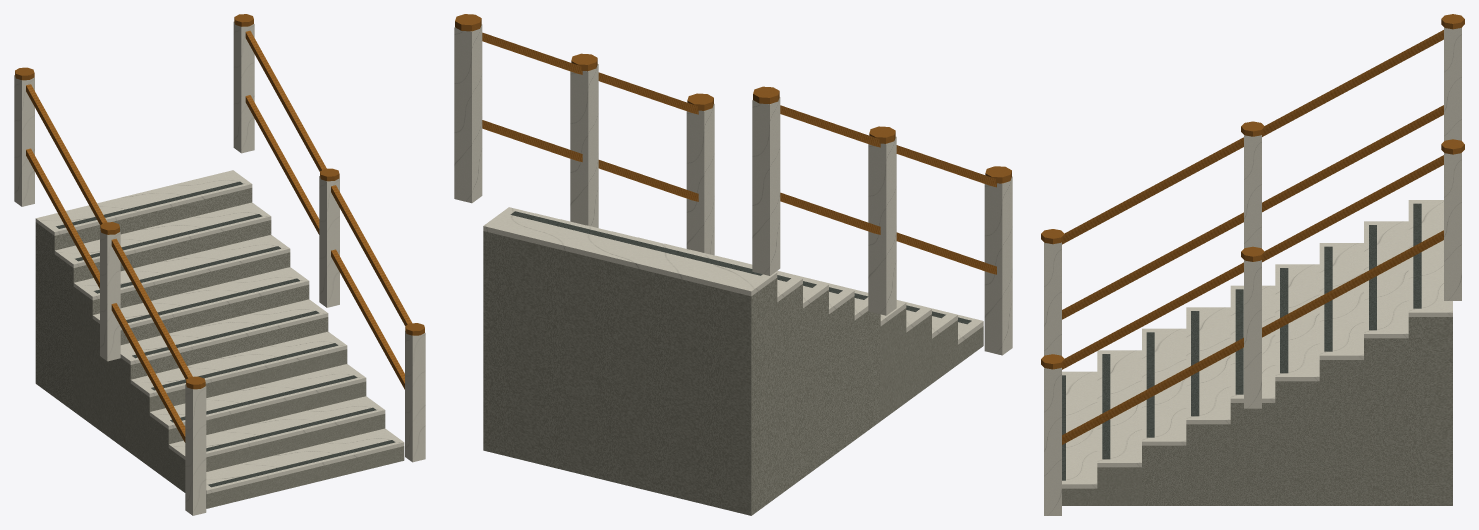
The picture shows the model from 3 angles, left to right: view 1: azimuth 30°, elevation 25°; view 2: azimuth 150°, elevation 25°; view 3: azimuth 270°, elevation 25°; orthographic projection. The views are drawn at different scales.
Visible parts, largest first — view 1: LOD1__Stone stair tread and riser.008, LOD1__Stone stair tread and riser.007, LOD1__Stone stair tread and riser.006, LOD1__Stone stair tread and riser.004, LOD1__Stone stair tread and riser.005, LOD1__Stone stair tread and riser.003, LOD1__Replaceable marble tread, LOD1__Replaceable marble tread.008, LOD1__Replaceable marble tread.004, LOD1__Replaceable marble tread.003, LOD1__Stone stair tread and riser.002, LOD1__Replaceable marble tread.001 (+25 smaller); view 2: LOD1__Stone stair tread and riser.008, LOD1__Replaceable marble tread.008, LOD1__Stone stair tread and riser.007, LOD1__Outside-route guard post.005, LOD1__Outside-route guard post.002, LOD1__Outside-route guard post.001, LOD1__Outside-route guard post, LOD1__Stone stair tread and riser.006, LOD1__Outside-route guard post.004, LOD1__Outside-route guard post.003, LOD1__Stone stair tread and riser.005, LOD1__Stone stair tread and riser.004 (+8 smaller); view 3: LOD1__Stone stair tread and riser.008, LOD1__Stone stair tread and riser.007, LOD1__Stone stair tread and riser.006, LOD1__Stone stair tread and riser.005, LOD1__Stone stair tread and riser.004, LOD1__Replaceable marble tread.002, LOD1__Replaceable marble tread.001, LOD1__Replaceable marble tread.006, LOD1__Replaceable marble tread.007, LOD1__Replaceable marble tread.003, LOD1__Replaceable marble tread.005, LOD1__Continuous bronze guardrail.002 (+24 smaller).
Boxes of the visible parts, x1,y1,x2,y2 form: LOD1__Stone stair tread and riser.008: [35, 188, 252, 397]; LOD1__Stone stair tread and riser.007: [54, 220, 271, 410]; LOD1__Stone stair tread and riser.006: [73, 252, 290, 424]; LOD1__Stone stair tread and riser.004: [111, 317, 328, 452]; LOD1__Stone stair tread and riser.005: [92, 284, 309, 438]; LOD1__Stone stair tread and riser.003: [130, 349, 347, 466]; LOD1__Replaceable marble tread: [206, 428, 404, 493]; LOD1__Replaceable marble tread.008: [35, 170, 252, 235]; LOD1__Replaceable marble tread.004: [120, 299, 328, 364]; LOD1__Replaceable marble tread.003: [130, 331, 347, 397]; LOD1__Stone stair tread and riser.002: [149, 381, 366, 480]; LOD1__Replaceable marble tread.001: [168, 396, 385, 459]; LOD1__Stone stair tread and riser.008: [483, 231, 777, 515]; LOD1__Replaceable marble tread.008: [483, 207, 777, 296]; LOD1__Stone stair tread and riser.007: [777, 284, 802, 496]; LOD1__Outside-route guard post.005: [454, 24, 482, 203]; LOD1__Outside-route guard post.002: [752, 97, 780, 275]; LOD1__Outside-route guard post.001: [868, 136, 896, 315]; LOD1__Outside-route guard post: [984, 176, 1012, 355]; LOD1__Stone stair tread and riser.006: [803, 290, 828, 477]; LOD1__Outside-route guard post.004: [570, 64, 598, 227]; LOD1__Outside-route guard post.003: [686, 103, 714, 255]; LOD1__Stone stair tread and riser.005: [829, 296, 854, 458]; LOD1__Stone stair tread and riser.004: [854, 311, 880, 439]; LOD1__Stone stair tread and riser.008: [1408, 317, 1452, 505]; LOD1__Stone stair tread and riser.007: [1364, 338, 1408, 505]; LOD1__Stone stair tread and riser.006: [1319, 360, 1363, 505]; LOD1__Stone stair tread and riser.005: [1275, 381, 1319, 505]; LOD1__Stone stair tread and riser.004: [1230, 403, 1275, 505]; LOD1__Replaceable marble tread.002: [1142, 328, 1186, 445]; LOD1__Replaceable marble tread.001: [1097, 350, 1141, 467]; LOD1__Replaceable marble tread.006: [1319, 243, 1363, 359]; LOD1__Replaceable marble tread.007: [1364, 221, 1408, 338]; LOD1__Replaceable marble tread.003: [1186, 307, 1230, 424]; LOD1__Replaceable marble tread.005: [1275, 264, 1319, 381]; LOD1__Continuous bronze guardrail.002: [1062, 230, 1443, 444].
Bounding box in the file's own units: 2.16 × 2.74 × 2.86.
Materials: 4 (4 with a texture image).
